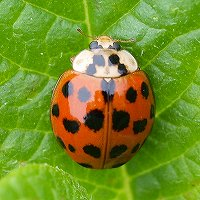Red: (49, 35, 155, 170)
